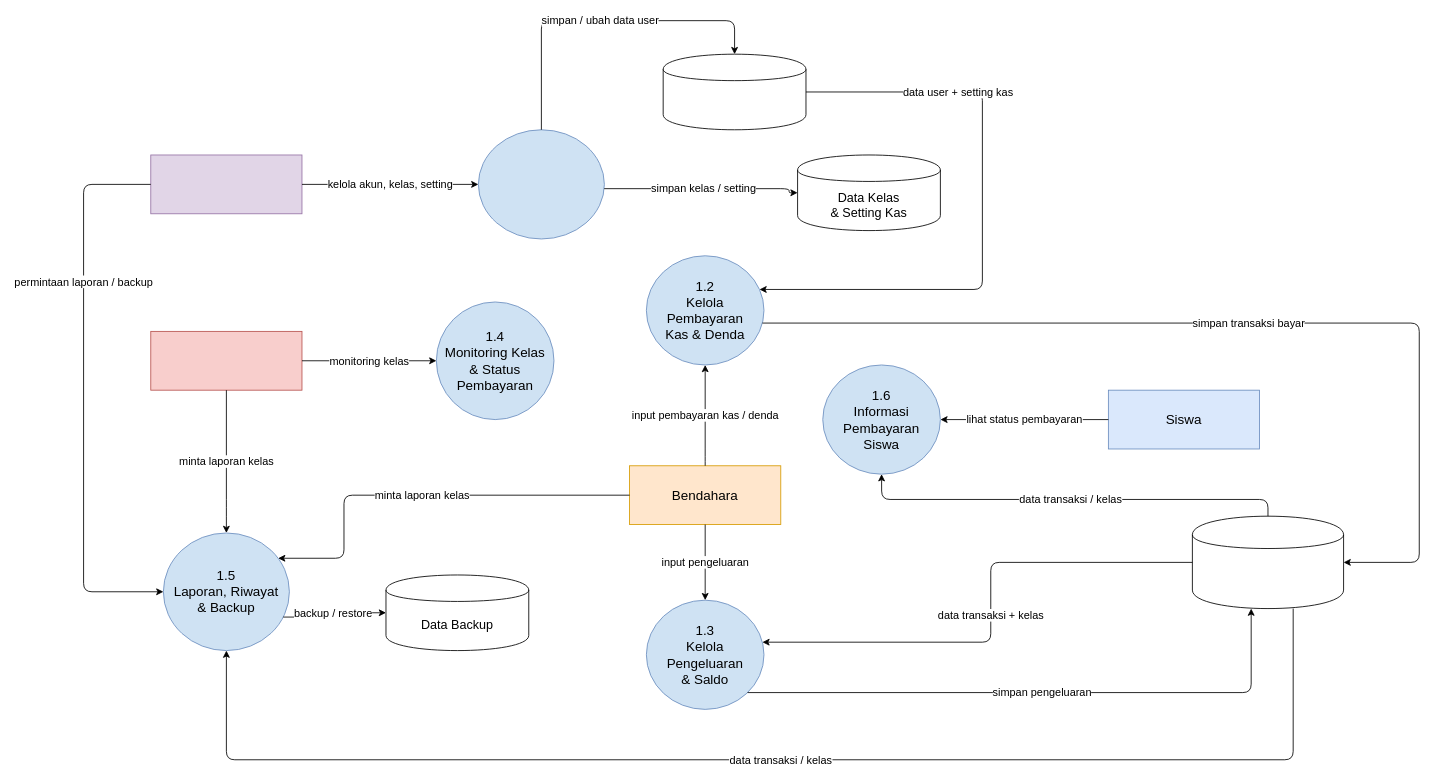
Image size: 1441x782. Some labels were removed from this diagram. Here are the shapes that lost their labels. From the top down, the centre of each, then its label:
At [734,91]: "Data User".
At [226,184]: "Superadmin".
At [541,184]: "1.1 Kelola User, Kelas & Pengaturan".
At [226,360]: "Wali Kelas".
At [1268,562]: "Data Transaksi Kas / Denda / Pengeluaran".
